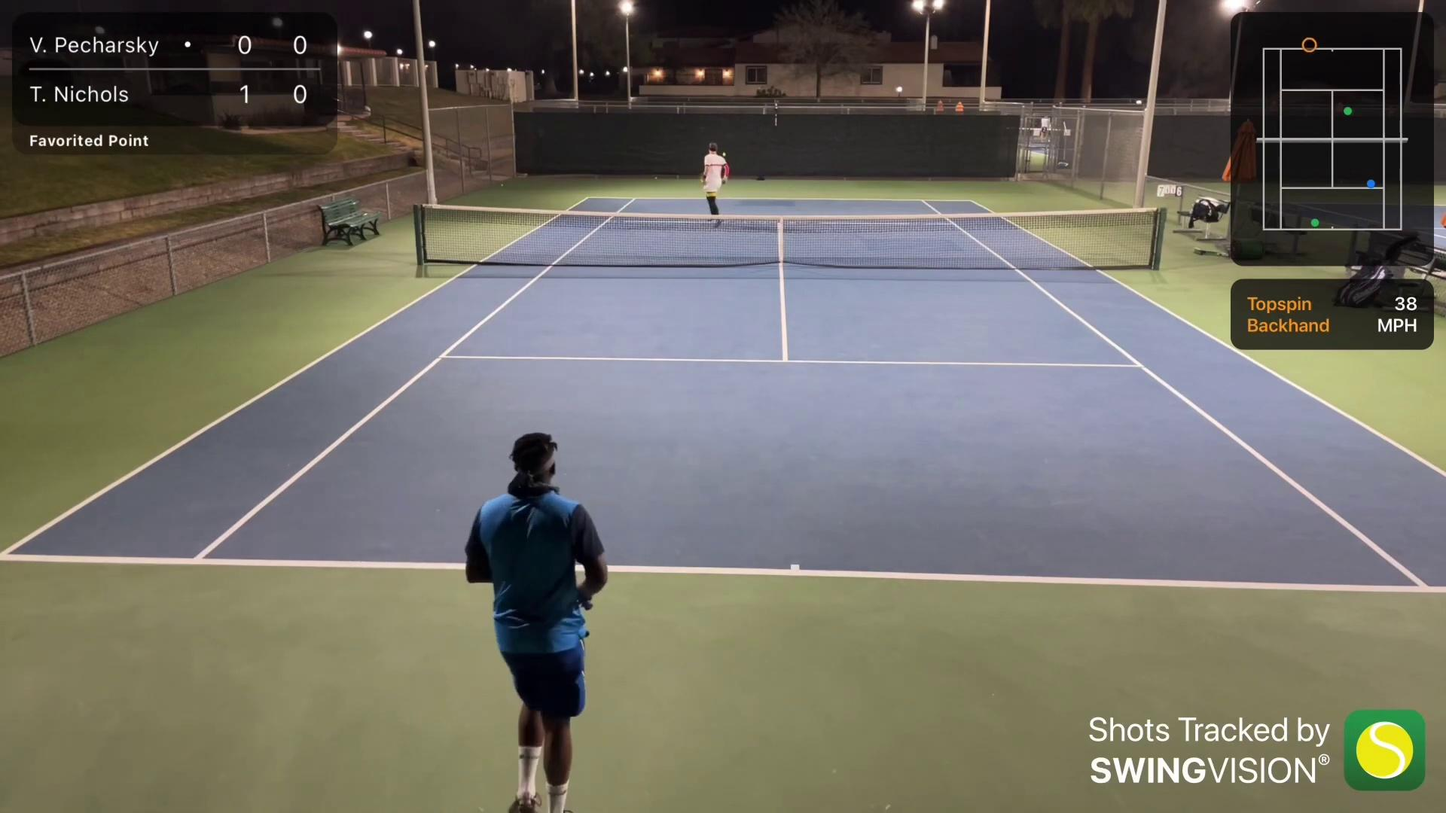ball: (722, 150, 725, 157)
